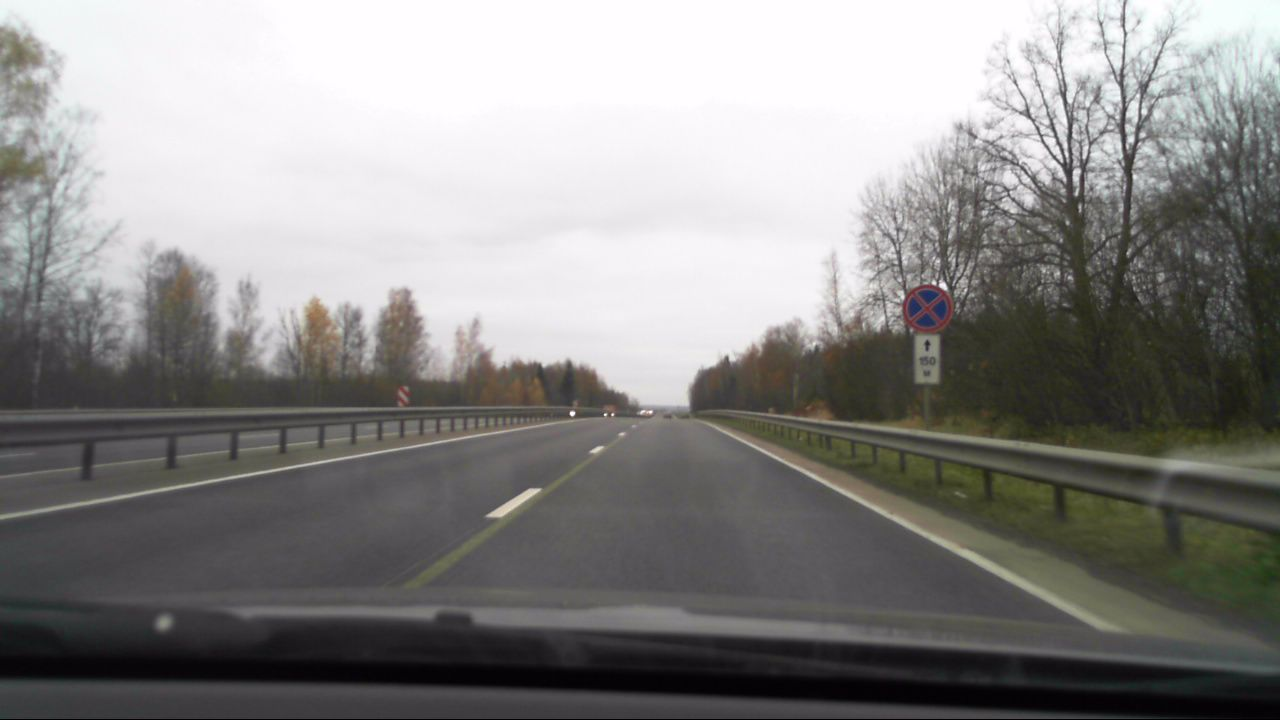No Parking: (901, 282, 955, 331)
